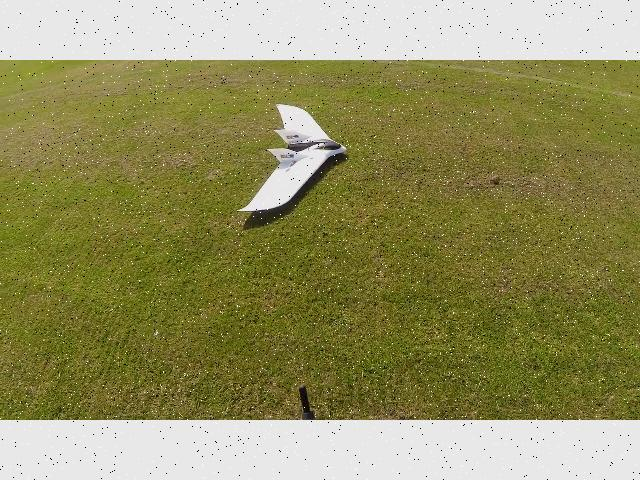Anti-Drone: (234, 89, 354, 237)
